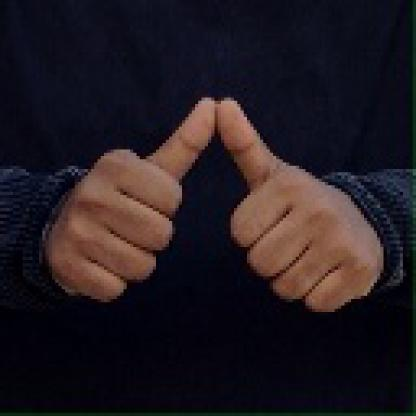A: (46, 88, 384, 310)
